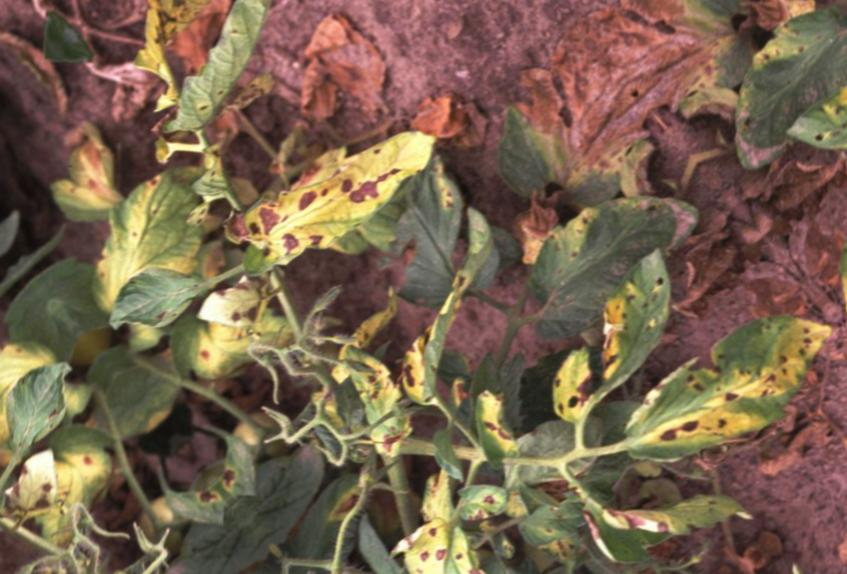Tomato Early blight leaf: (205, 74, 442, 303), (598, 277, 824, 496), (513, 239, 716, 436), (339, 467, 594, 574), (94, 0, 263, 89)
